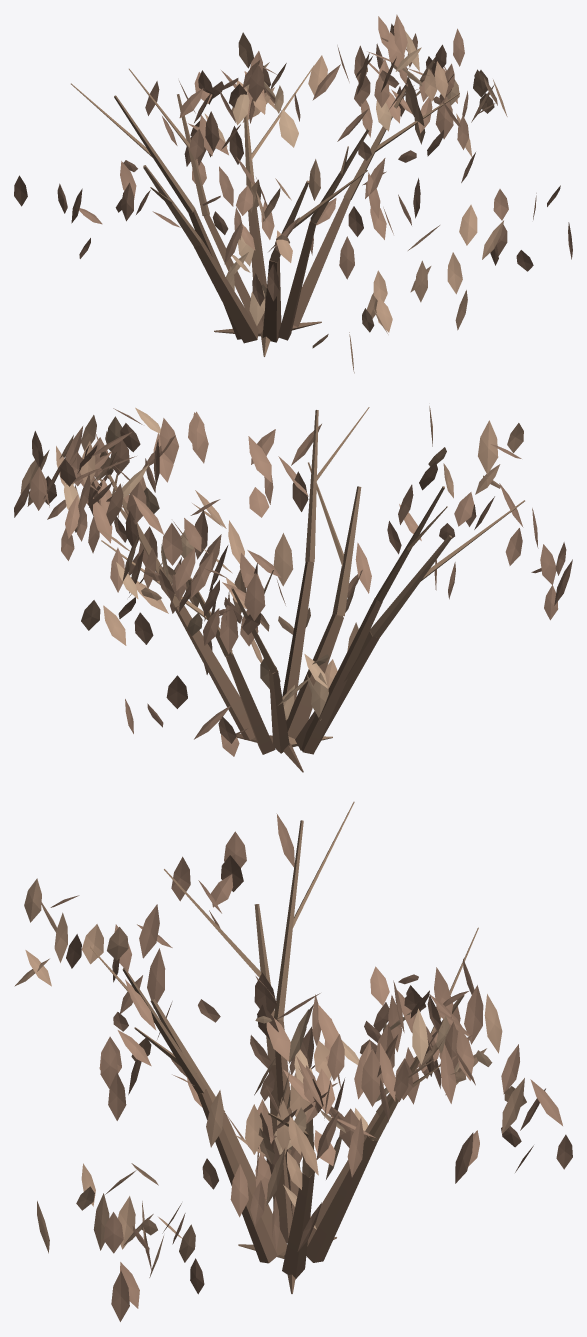
Rendered from bush_3d_06_copper.glb.
3 views of the same model, one above another, from view 1: azimuth 30°, elevation 25°; view 2: azimuth 150°, elevation 25°; view 3: azimuth 270°, elevation 25° (orthographic). The views are drawn at different scales.
Visible parts, largest first — view 1: bush_3d_06_copper_foliage, bush_3d_06_copper_wood; view 2: bush_3d_06_copper_foliage, bush_3d_06_copper_wood; view 3: bush_3d_06_copper_foliage, bush_3d_06_copper_wood.
Boxes of the visible parts, bbox=[...] form: bush_3d_06_copper_foliage: bbox=[14, 14, 572, 373]; bush_3d_06_copper_wood: bbox=[71, 65, 459, 356]; bush_3d_06_copper_foliage: bbox=[14, 406, 572, 756]; bush_3d_06_copper_wood: bbox=[100, 407, 524, 772]; bush_3d_06_copper_foliage: bbox=[14, 813, 572, 1321]; bush_3d_06_copper_wood: bbox=[90, 801, 478, 1293].
Bounding box in the file's own units: 3.5 × 1.9 × 2.7.
